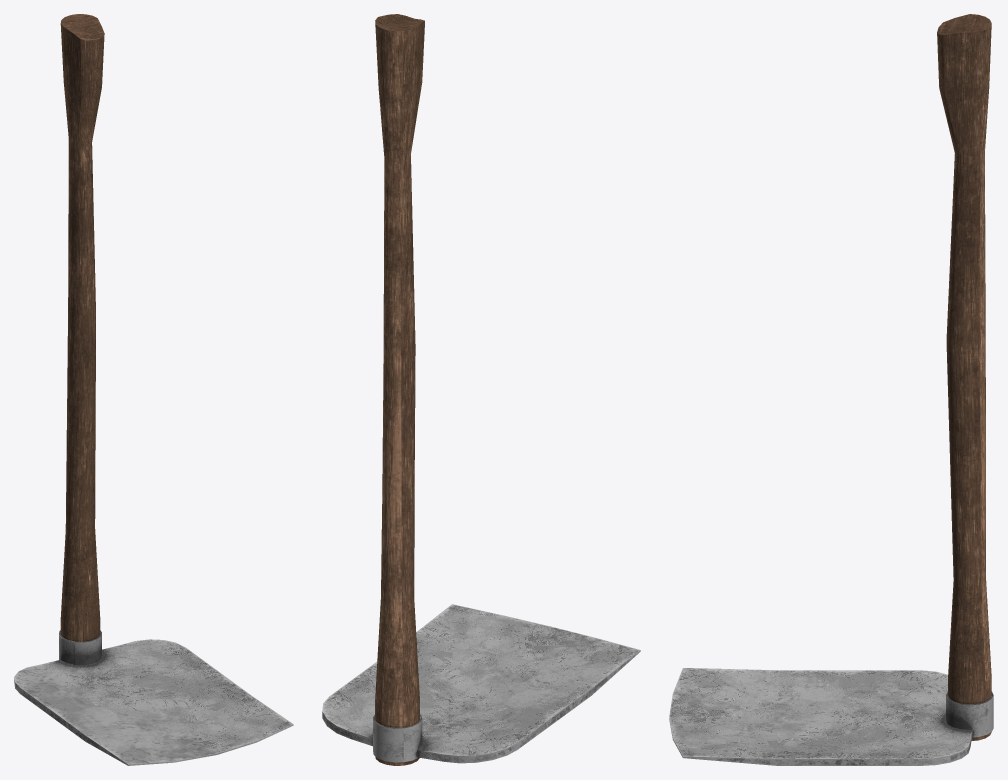
The model's file is Cangkul.fbx.
3 views of the same model, side by side, from view 1: azimuth 30°, elevation 25°; view 2: azimuth 150°, elevation 25°; view 3: azimuth 270°, elevation 25° (orthographic). The views are drawn at different scales.
Visible parts, largest first — view 1: Cangkul; view 2: Cangkul; view 3: Cangkul.
Boxes of the visible parts, x1=… form: Cangkul: x1=14, y1=14, x2=293, y2=765; Cangkul: x1=322, y1=14, x2=640, y2=765; Cangkul: x1=669, y1=14, x2=993, y2=765.
Bounding box in the file's own units: 0.27 × 1.01 × 0.4175.
